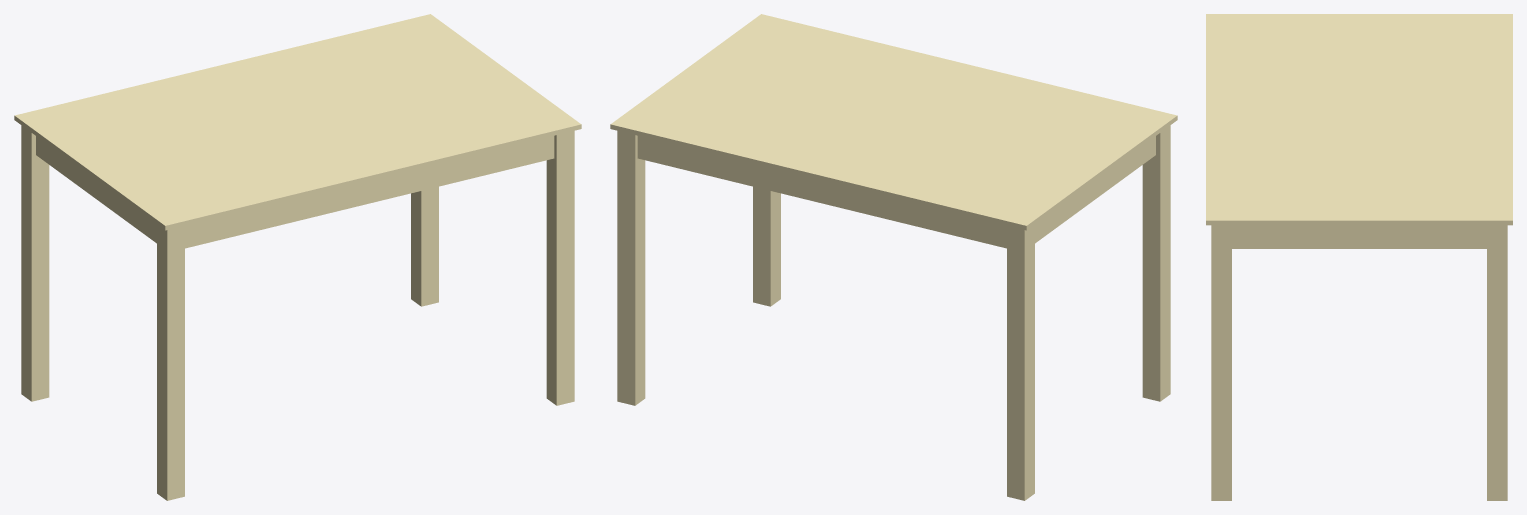
3 renders of one model, left to right at view 1: azimuth 30°, elevation 25°; view 2: azimuth 150°, elevation 25°; view 3: azimuth 270°, elevation 25°, orthographic.
Parts seen in each view (by area): view 1: Mesh2 ingo_table_top1 ingo_table1 Model, Mesh3 ingo_table_leg2 ingo_table1 Model, Mesh4 ingo_table_leg3 ingo_table1 Model, Mesh1 ingo_table_leg1 ingo_table1 Model, Mesh5 ingo_table_leg4 ingo_table1 Model; view 2: Mesh2 ingo_table_top1 ingo_table1 Model, Mesh1 ingo_table_leg1 ingo_table1 Model, Mesh5 ingo_table_leg4 ingo_table1 Model, Mesh3 ingo_table_leg2 ingo_table1 Model, Mesh4 ingo_table_leg3 ingo_table1 Model; view 3: Mesh2 ingo_table_top1 ingo_table1 Model, Mesh4 ingo_table_leg3 ingo_table1 Model, Mesh5 ingo_table_leg4 ingo_table1 Model.
Boxes of the visible parts, x1,y1,x2,y2 form: Mesh2 ingo_table_top1 ingo_table1 Model: [14, 14, 581, 230]; Mesh3 ingo_table_leg2 ingo_table1 Model: [98, 181, 368, 500]; Mesh4 ingo_table_leg3 ingo_table1 Model: [368, 130, 574, 405]; Mesh1 ingo_table_leg1 ingo_table1 Model: [21, 125, 98, 401]; Mesh5 ingo_table_leg4 ingo_table1 Model: [411, 186, 438, 306]; Mesh2 ingo_table_top1 ingo_table1 Model: [610, 14, 1177, 230]; Mesh1 ingo_table_leg1 ingo_table1 Model: [823, 181, 1093, 500]; Mesh5 ingo_table_leg4 ingo_table1 Model: [617, 130, 823, 405]; Mesh3 ingo_table_leg2 ingo_table1 Model: [1093, 125, 1170, 401]; Mesh4 ingo_table_leg3 ingo_table1 Model: [753, 186, 780, 306]; Mesh2 ingo_table_top1 ingo_table1 Model: [1206, 14, 1512, 225]; Mesh4 ingo_table_leg3 ingo_table1 Model: [1211, 225, 1359, 500]; Mesh5 ingo_table_leg4 ingo_table1 Model: [1359, 225, 1507, 500].
Size of the model in its own units: 0.7451 by 0.4756 by 0.4677.
